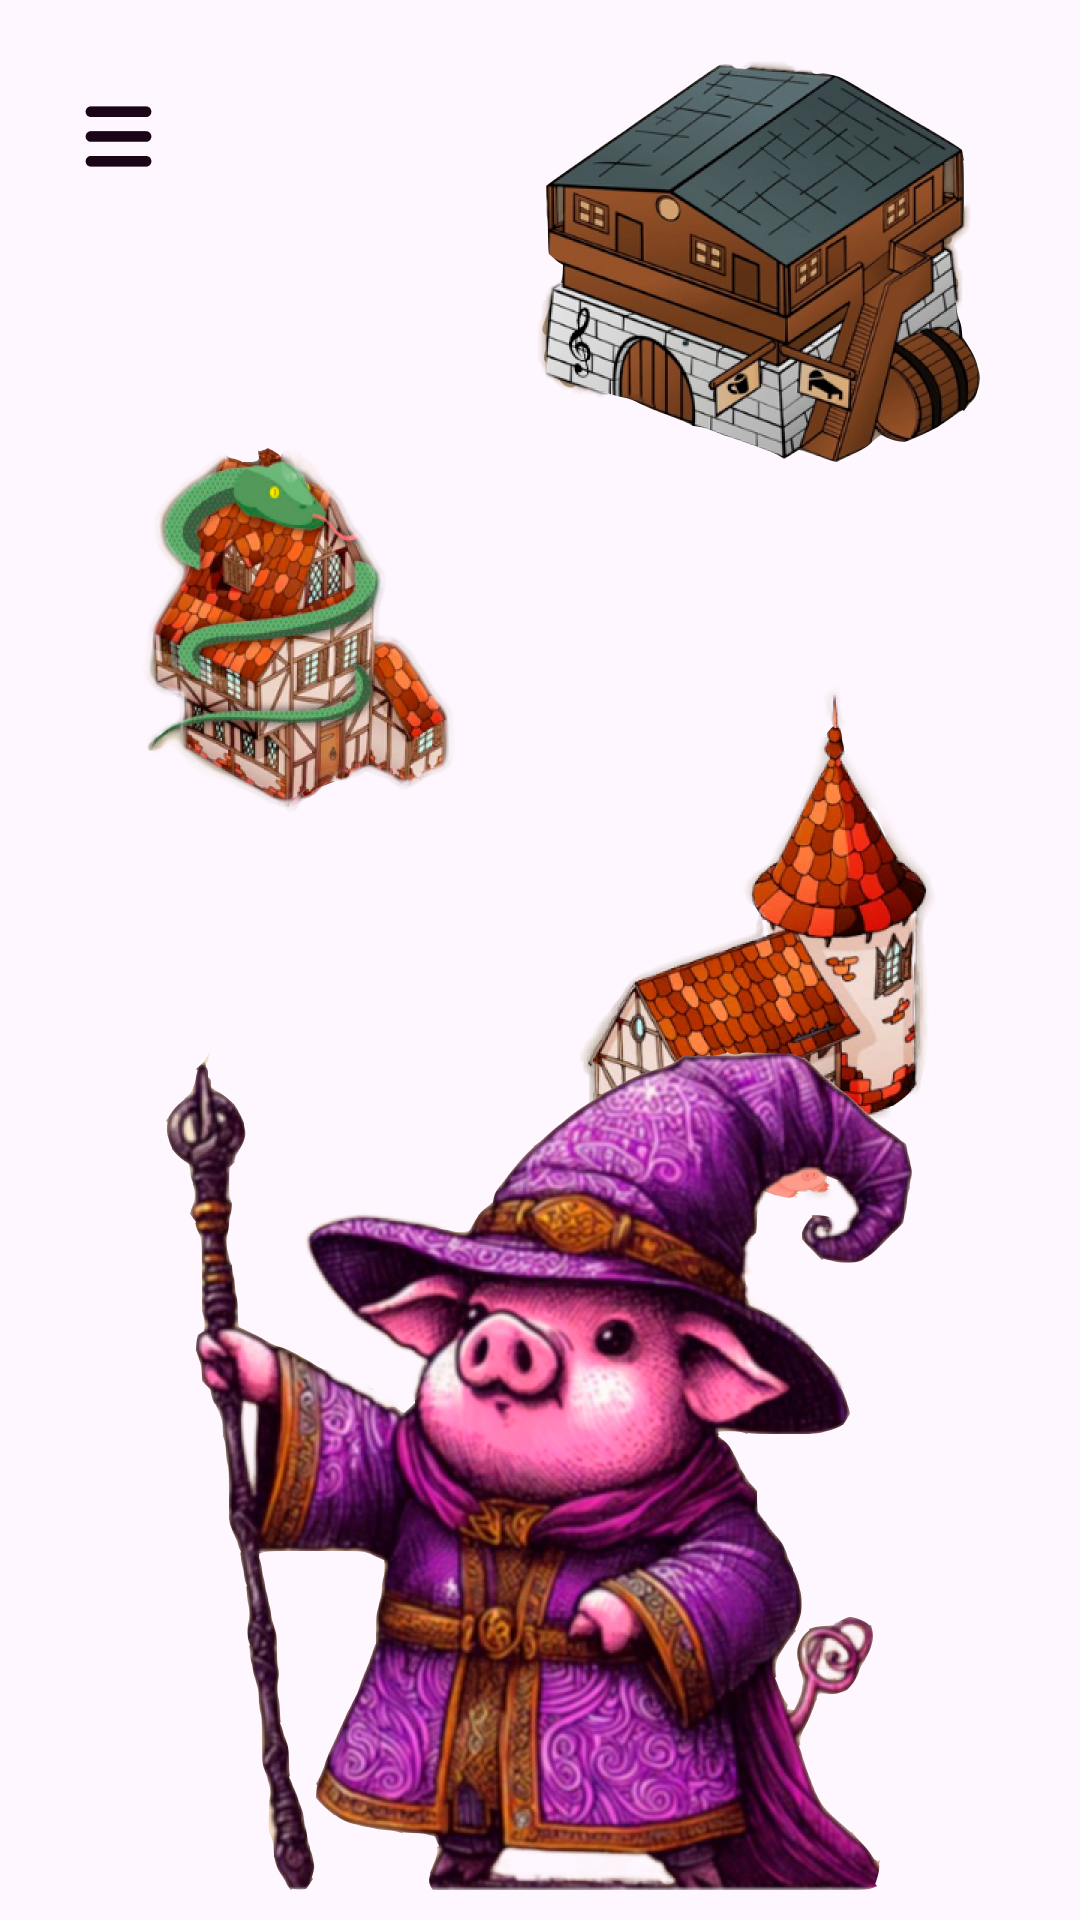

Screen size 1080 x 1920. Icon name, then its box in pixels as (x1, y1, x2, y2):
mingcute menu: (85, 106, 152, 167)
snake: (148, 448, 449, 807)
